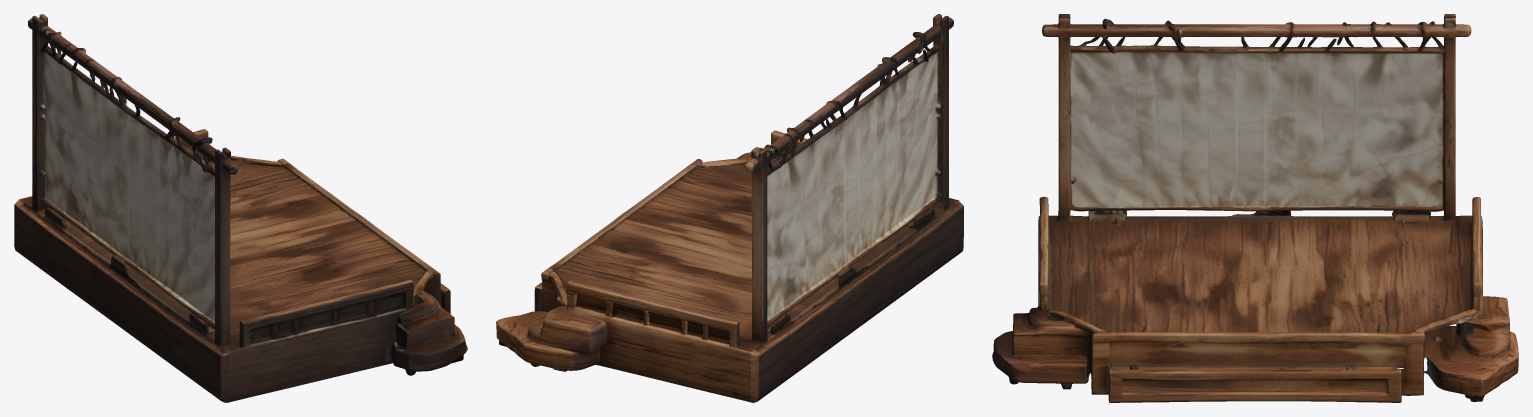
Rendered from plaza-stage.glb.
3 views of the same model, side by side, from view 1: azimuth 30°, elevation 25°; view 2: azimuth 150°, elevation 25°; view 3: azimuth 270°, elevation 25° (orthographic). The views are drawn at different scales.
Visible parts, largest first — view 1: tripo_node_360379aa-e5c7-4e3e-b4ee-67a997934412; view 2: tripo_node_360379aa-e5c7-4e3e-b4ee-67a997934412; view 3: tripo_node_360379aa-e5c7-4e3e-b4ee-67a997934412.
Part boxes in pixels (x1=…): tripo_node_360379aa-e5c7-4e3e-b4ee-67a997934412: x1=14, y1=14, x2=467, y2=402; tripo_node_360379aa-e5c7-4e3e-b4ee-67a997934412: x1=496, y1=14, x2=963, y2=402; tripo_node_360379aa-e5c7-4e3e-b4ee-67a997934412: x1=992, y1=14, x2=1518, y2=402.
Bounding box in the file's own units: 3.34 × 3 × 5.5.
1 material, 1 textured.
